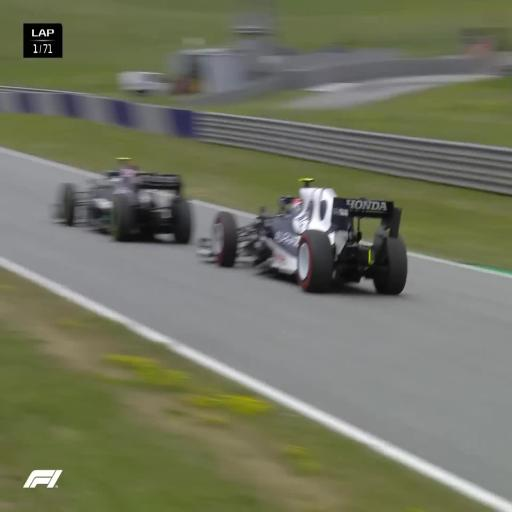f1_car: (198, 178, 407, 294), (53, 158, 192, 243)
